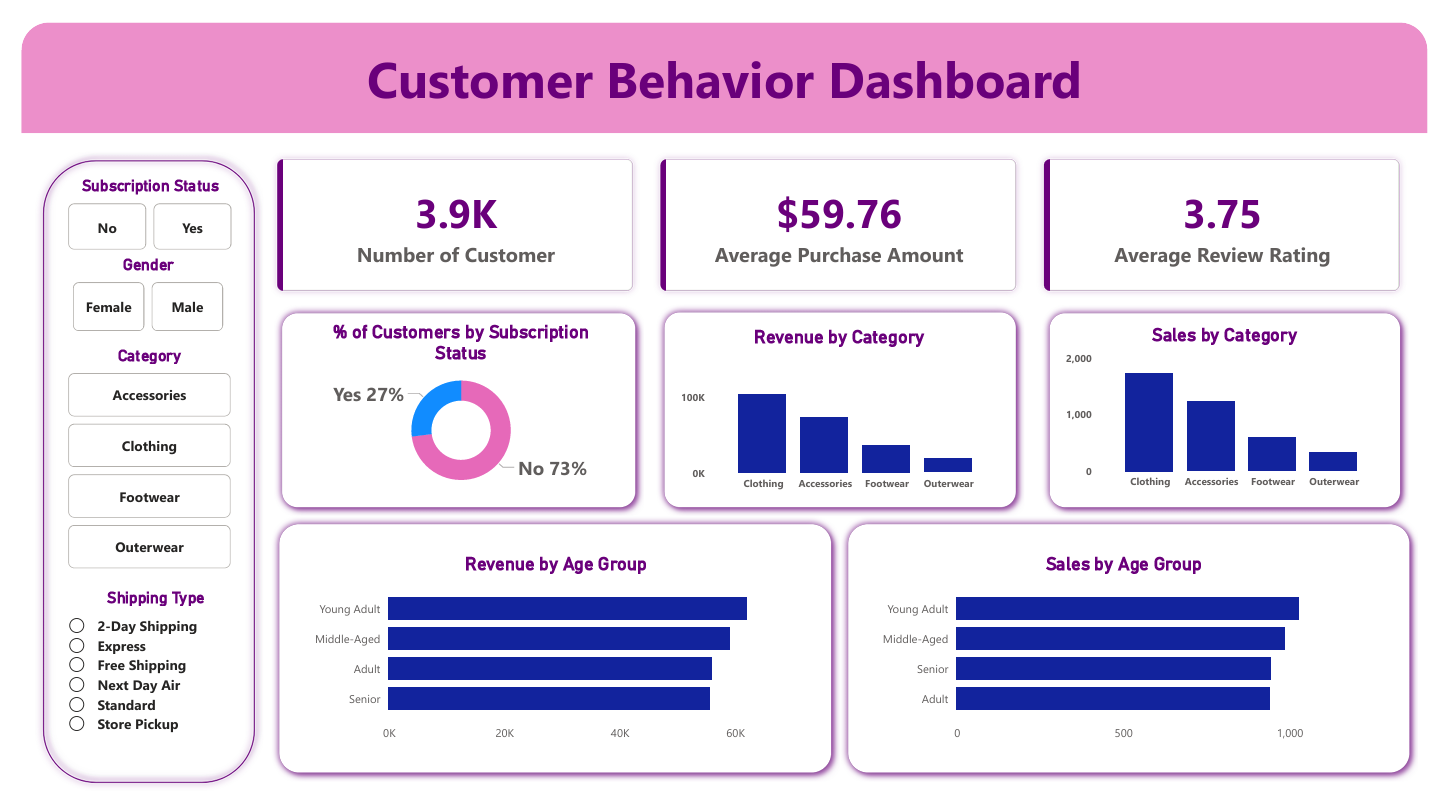

The page's visual inventory and layout, read from the dashboard file:
{"tool":"powerbi","page":{"name":"Page 1","canvas":[1500,820],"ordinal":0},"visuals":[{"type":"cardVisual","fields":{"Data":["public customer.Number of Customer","public customer.Average Purchase Amount","public customer.Average Review Rating"]},"box":[245.1,118.4,1254.8,196.4],"z":0},{"type":"shape","box":[0,0,1499.9,118.4],"z":1000},{"type":"textbox","box":[257.6,16.7,984.6,86.3],"z":2000},{"type":"shape","box":[268.8,300.8,395.5,225.6],"z":3000},{"type":"donutChart","title":"% of Customers by Subscription Status ","fields":{"Category":["public customer.subscription_status"],"Y":["CountNonNull(public customer.customer_id)"]},"box":[303.6,318.9,330.1,189.4],"z":4000},{"type":"shape","box":[1087.7,300.8,392.7,225.6],"z":5000},{"type":"shape","box":[676.8,300.1,392.7,225.6],"z":6000},{"type":"clusteredColumnChart","title":"Revenue by Category","fields":{"Y":["Sum(public customer.purchase_amount)"],"Category":["public customer.category"]},"box":[697.7,324.5,349.6,183.8],"z":7000},{"type":"clusteredColumnChart","title":"Sales by Category","fields":{"Y":["CountNonNull(public customer.customer_id)"],"Category":["public customer.category"]},"box":[1108.6,321.7,349.6,183.8],"z":8000},{"type":"shape","box":[13.9,137.9,243.7,682.4],"z":9000},{"type":"advancedSlicerVisual","fields":{"Values":["public customer.subscription_status"]},"box":[48.7,178.3,185.2,78],"z":10000},{"type":"advancedSlicerVisual","fields":{"Values":["public customer.gender"]},"box":[51.5,261.8,171.3,78],"z":11000},{"type":"advancedSlicerVisual","fields":{"Values":["public customer.category"]},"box":[44.6,345.4,183.8,243.7],"z":12000},{"type":"listSlicer","title":"Shipping Type","fields":{"Values":["public customer.shipping_type"]},"box":[44.6,603,197.8,206.1],"z":13000},{"type":"shape","box":[873.2,526.4,617,282.7],"z":14000},{"type":"clusteredBarChart","title":"Sales by Age Group","fields":{"Y":["CountNonNull(public customer.customer_id)"],"Category":["public customer.age_group"]},"box":[908,561.2,536.2,214.5],"z":15000},{"type":"shape","box":[266,526.4,607.2,282.7],"z":16001},{"type":"clusteredBarChart","title":"Revenue by Age Group","fields":{"Y":["Sum(public customer.purchase_amount)"],"Category":["public customer.age_group"]},"box":[302.2,561.2,536.2,214.5],"z":16002}]}

Visuals, with their boxes in screenshot pixels (x1, y1, x2, y2), scaled from the page's 1500x820 canvas onto the 1445x812 screenshot:
cardVisual - public customer.Number of Customer x public customer.Average Purchase Amount: {"x1": 236, "y1": 117, "x2": 1444, "y2": 312}
shape: {"x1": 0, "y1": 0, "x2": 1444, "y2": 117}
textbox: {"x1": 248, "y1": 17, "x2": 1197, "y2": 102}
shape: {"x1": 259, "y1": 298, "x2": 640, "y2": 521}
"% of Customers by Subscription Status " donutChart: {"x1": 292, "y1": 316, "x2": 610, "y2": 503}
shape: {"x1": 1048, "y1": 298, "x2": 1426, "y2": 521}
shape: {"x1": 652, "y1": 297, "x2": 1030, "y2": 521}
"Revenue by Category" clusteredColumnChart: {"x1": 672, "y1": 321, "x2": 1009, "y2": 503}
"Sales by Category" clusteredColumnChart: {"x1": 1068, "y1": 319, "x2": 1405, "y2": 501}
shape: {"x1": 13, "y1": 137, "x2": 248, "y2": 811}
advancedSlicerVisual - public customer.subscription_status: {"x1": 47, "y1": 177, "x2": 225, "y2": 254}
advancedSlicerVisual - public customer.gender: {"x1": 50, "y1": 259, "x2": 215, "y2": 336}
advancedSlicerVisual - public customer.category: {"x1": 43, "y1": 342, "x2": 220, "y2": 583}
"Shipping Type" listSlicer: {"x1": 43, "y1": 597, "x2": 234, "y2": 801}
shape: {"x1": 841, "y1": 521, "x2": 1436, "y2": 801}
"Sales by Age Group" clusteredBarChart: {"x1": 875, "y1": 556, "x2": 1391, "y2": 768}
shape: {"x1": 256, "y1": 521, "x2": 841, "y2": 801}
"Revenue by Age Group" clusteredBarChart: {"x1": 291, "y1": 556, "x2": 808, "y2": 768}
